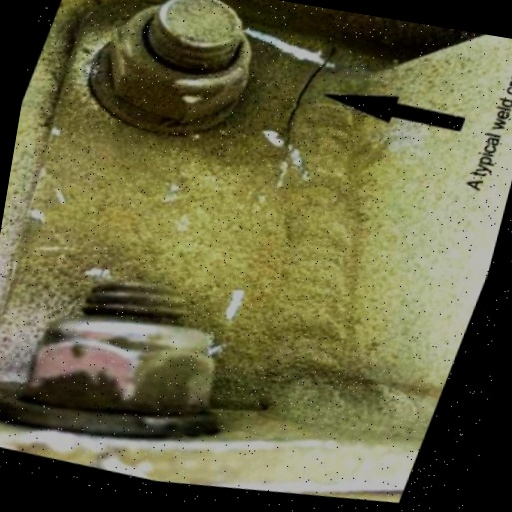crack: (146, 58, 432, 189)
